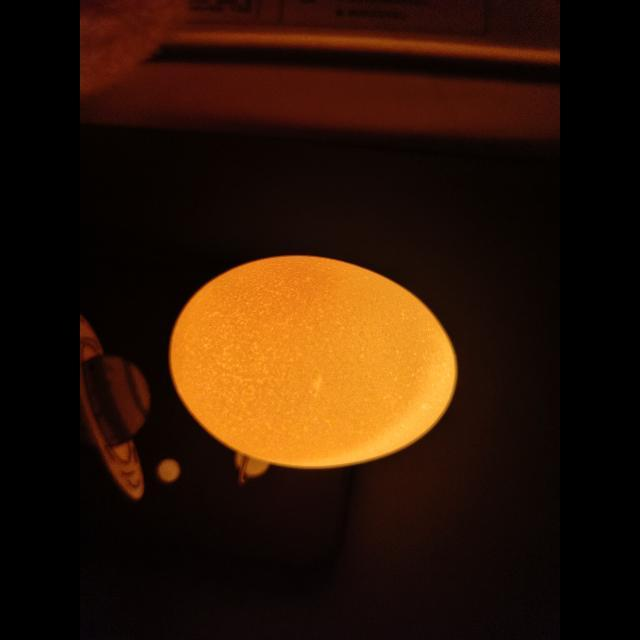AA - Premium: (170, 256, 456, 469)
